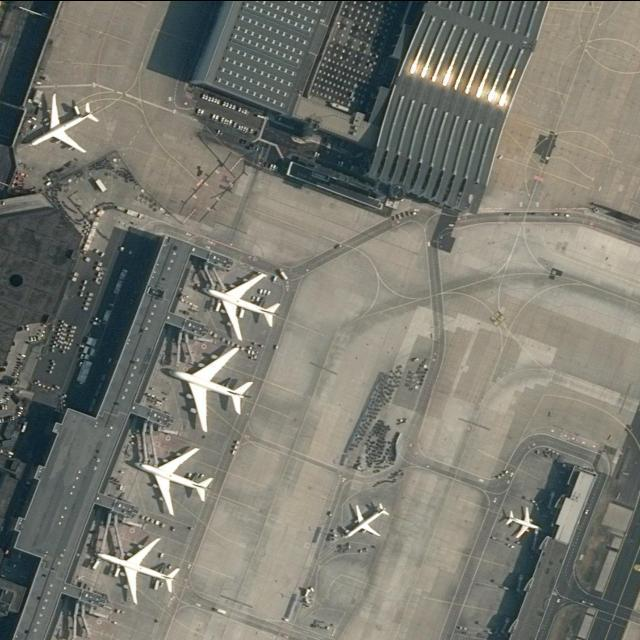Aircraft: (167, 343, 253, 432), (92, 532, 181, 605), (203, 266, 281, 341), (134, 444, 213, 517), (24, 89, 100, 151), (339, 495, 391, 540), (501, 503, 543, 541)
